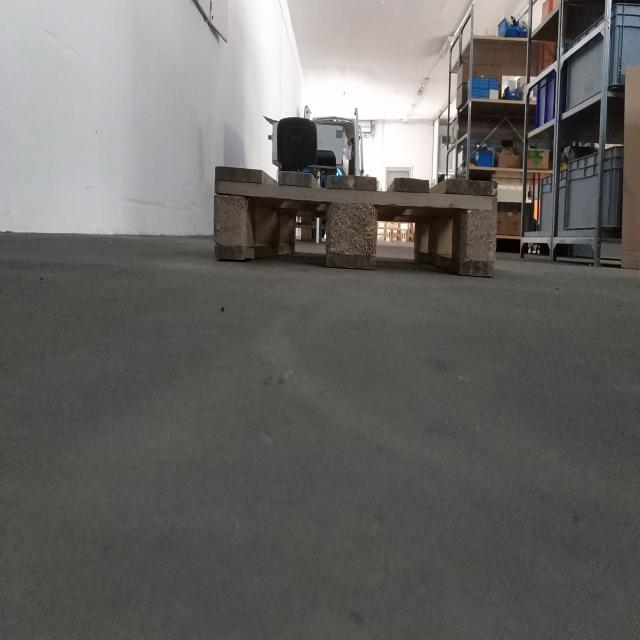block: (324, 172, 376, 269), (456, 173, 494, 278), (210, 162, 249, 264)
front: (210, 158, 497, 284)
